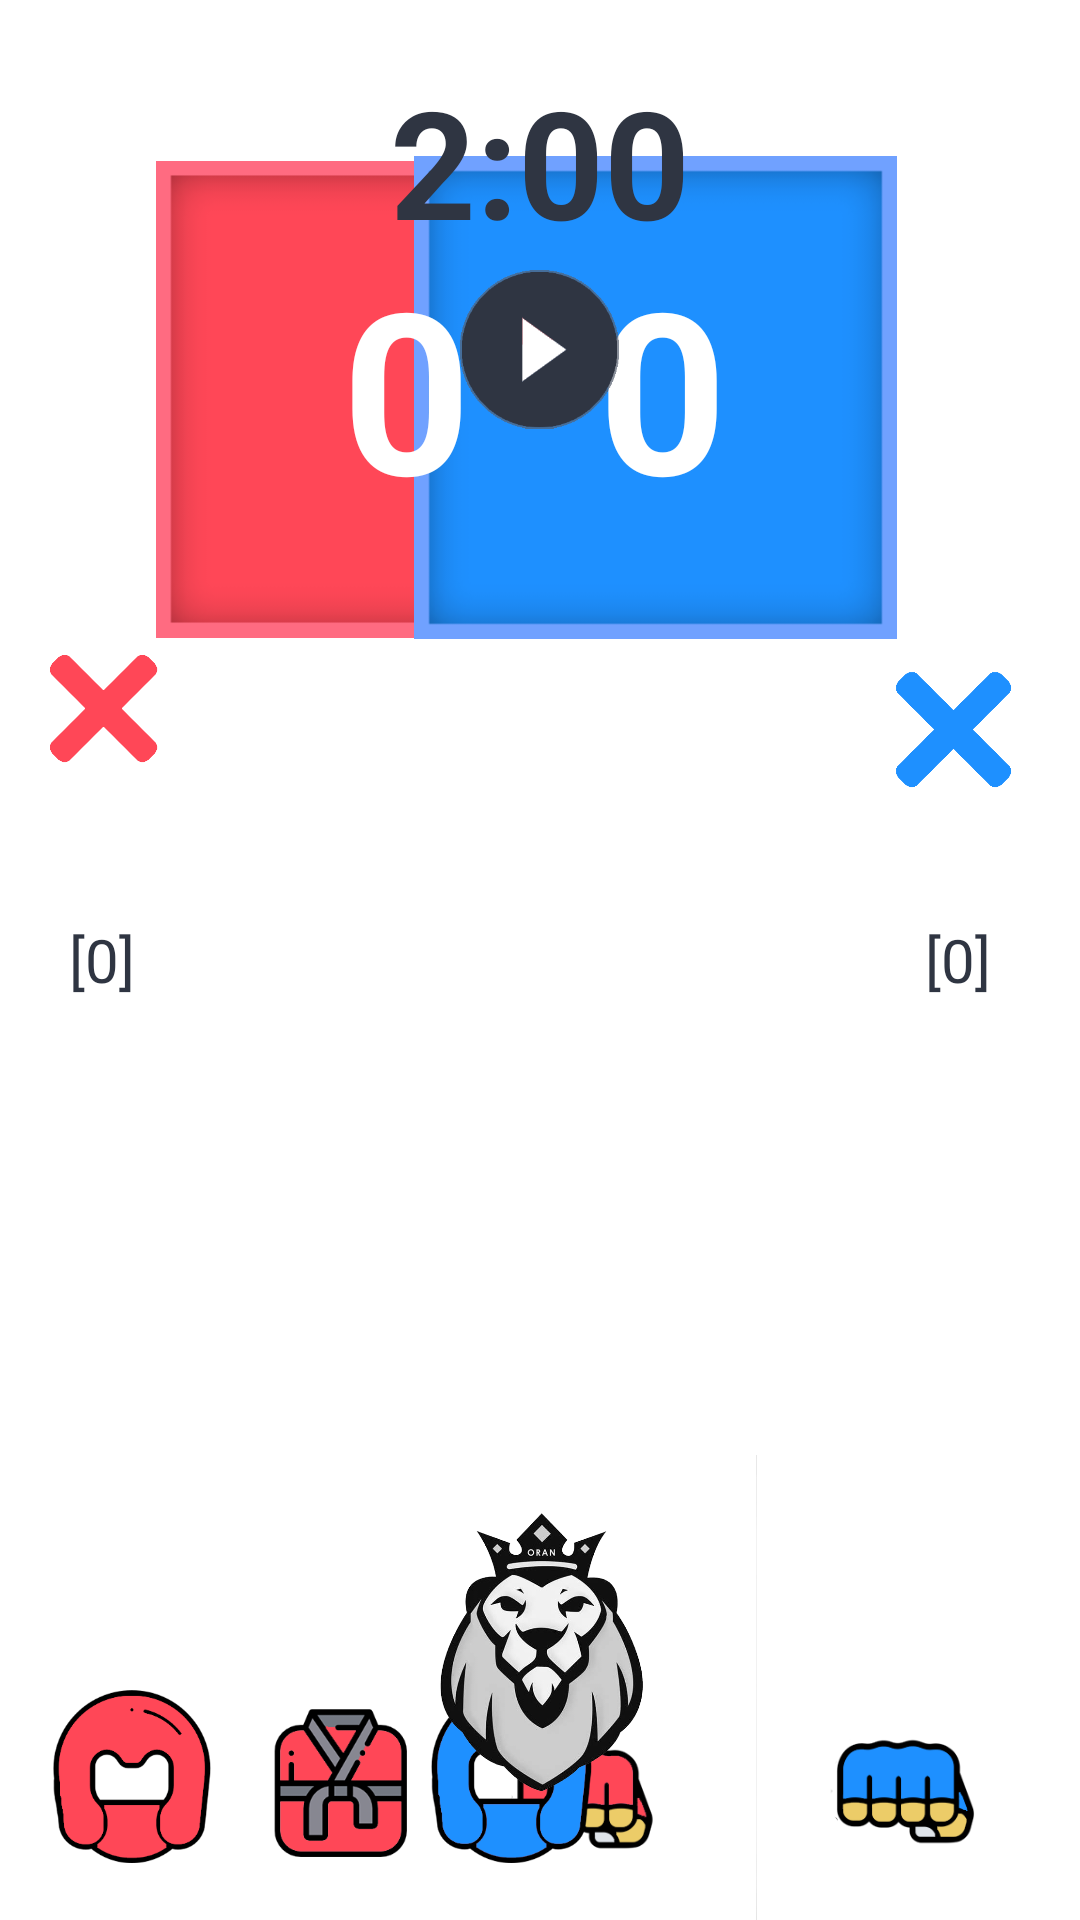

Icon bounding boxes for this 1080 × 1920 phone screenshot, format (x1, y1, x2, y2):
chestred: (274, 1709, 407, 1857)
gamejeomblue: (896, 672, 1011, 787)
gamejeomred: (50, 655, 157, 762)
headred: (53, 1690, 211, 1863)
punchblue: (831, 1740, 974, 1844)
